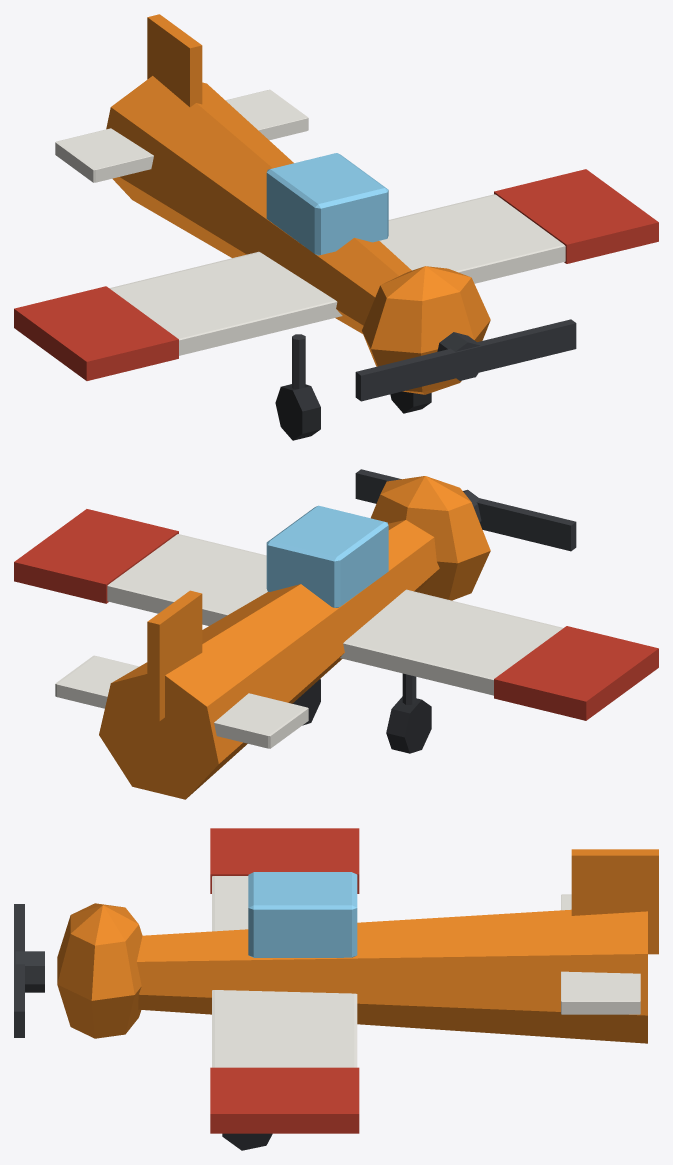
3 views of the same model, one above another, from view 1: azimuth 30°, elevation 25°; view 2: azimuth 150°, elevation 25°; view 3: azimuth 270°, elevation 25° (orthographic). The views are drawn at different scales.
Parts seen in each view (by area): view 1: plane; view 2: plane; view 3: plane.
Part boxes in pixels (x1,y1,x2,y2): plane: (14,14,658,440); plane: (14,469,658,799); plane: (14,828,658,1150).
Size of the model in its own units: 1.86 by 0.808 by 1.78.
